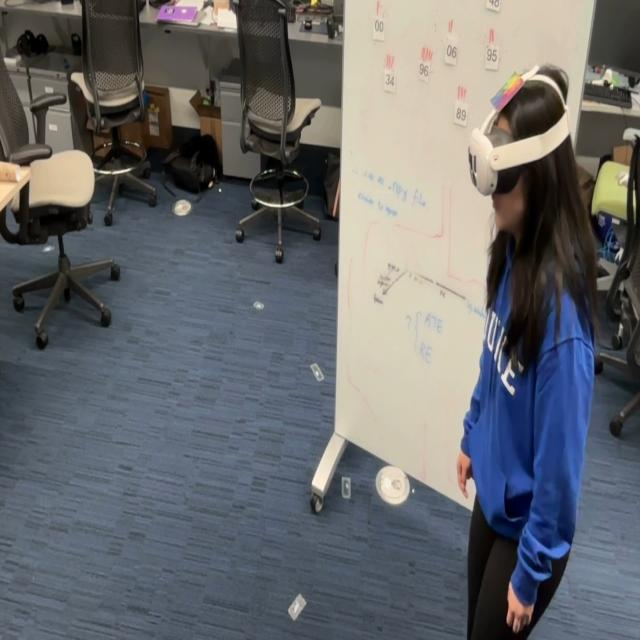Headset: (468, 68, 570, 196)
Marker: (488, 65, 526, 118)
